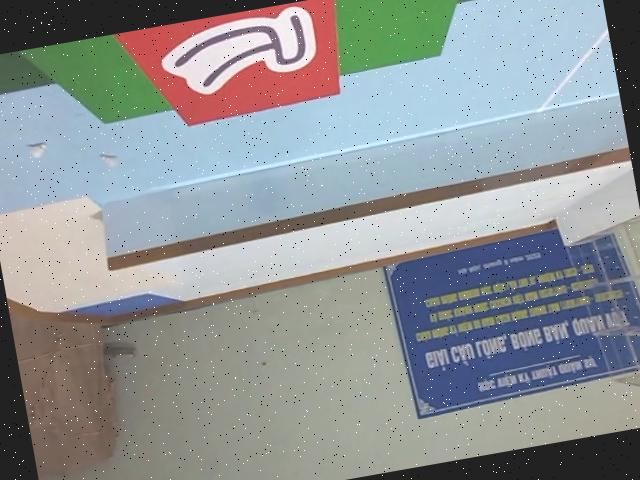R2 Fake: (101, 0, 354, 141)
